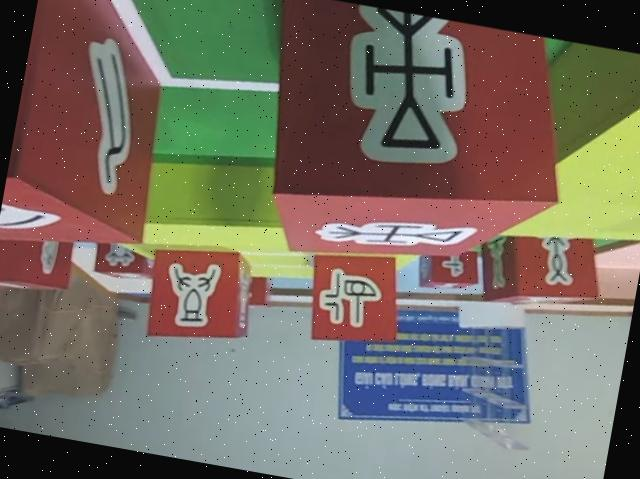R2 Real: (234, 0, 576, 306), (0, 0, 193, 270), (294, 230, 413, 364), (478, 205, 610, 325), (137, 236, 261, 356)
